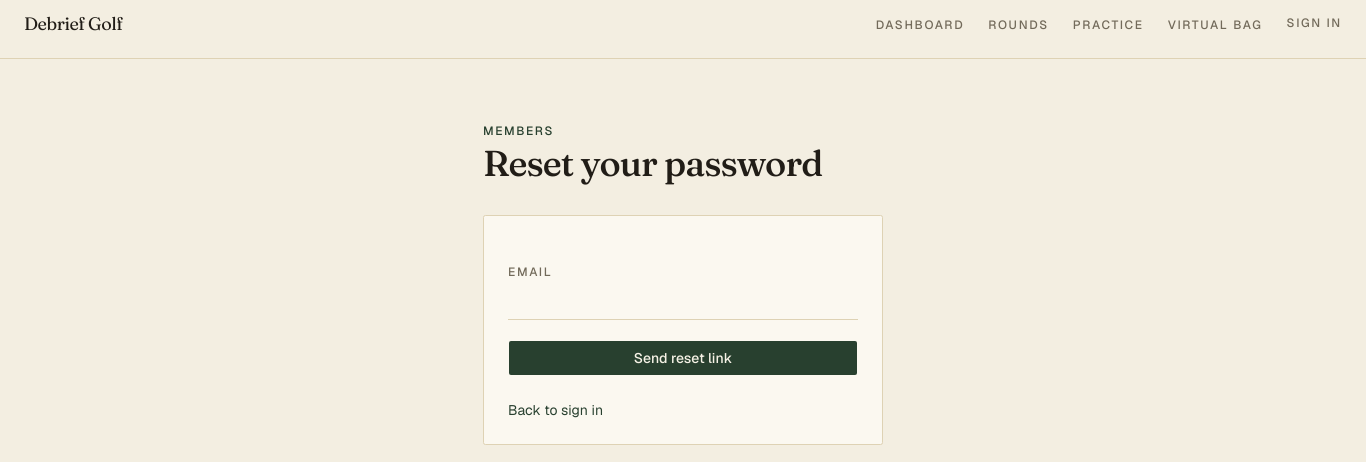
Scenario: ForgotPasswordPage › submits the entered email and shows the same notice on success
Step 1. Type "jane@example.com" into the field labelled "Email" → (683,302), box [508, 284, 858, 320]
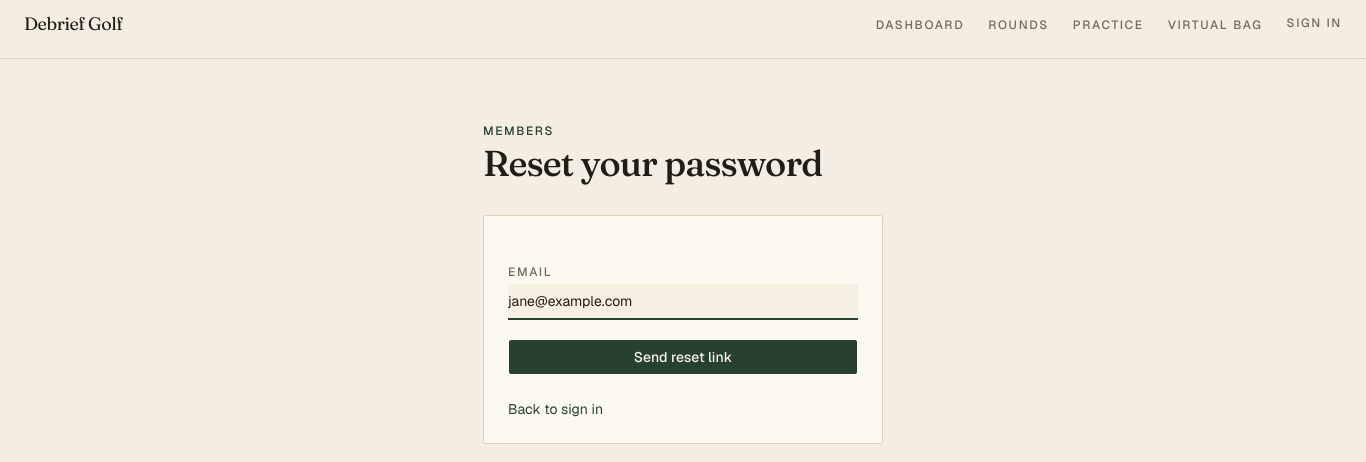
Step 2. Click the button "Send reset link" → (683,357), box [508, 339, 858, 375]
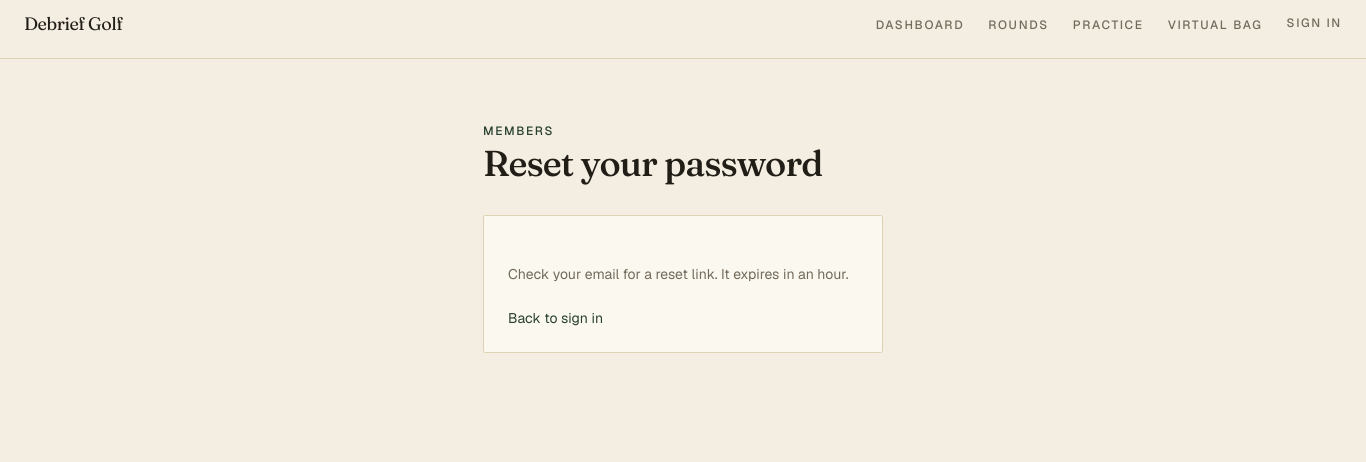
Check: the text "Check your email for a reset link. It expires in an hour." is shown, box [508, 264, 858, 284]
